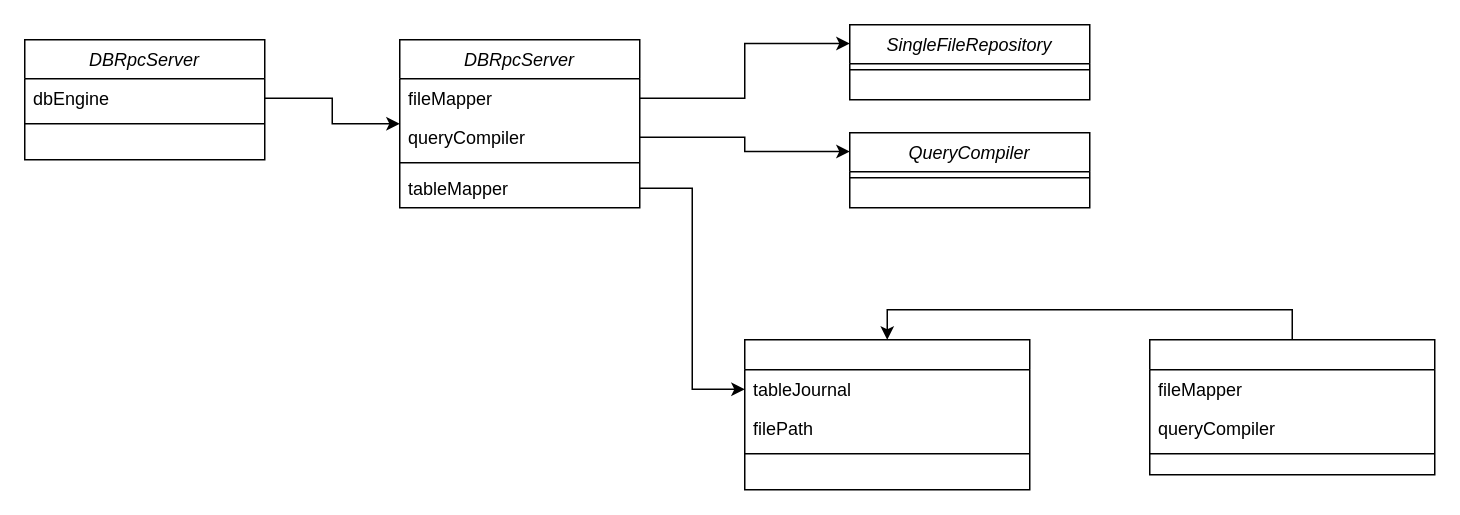
Image size: 1460x515. Some labels were removed from this diagram. The shapes that lost their labels are listed below. From the top down, each one's box as (x1, y1, x2, y2) in pixels, then its label:
(743, 338, 1030, 490): TableFileMapper
(1148, 338, 1435, 475): SystemTableFileMapperBuilder
